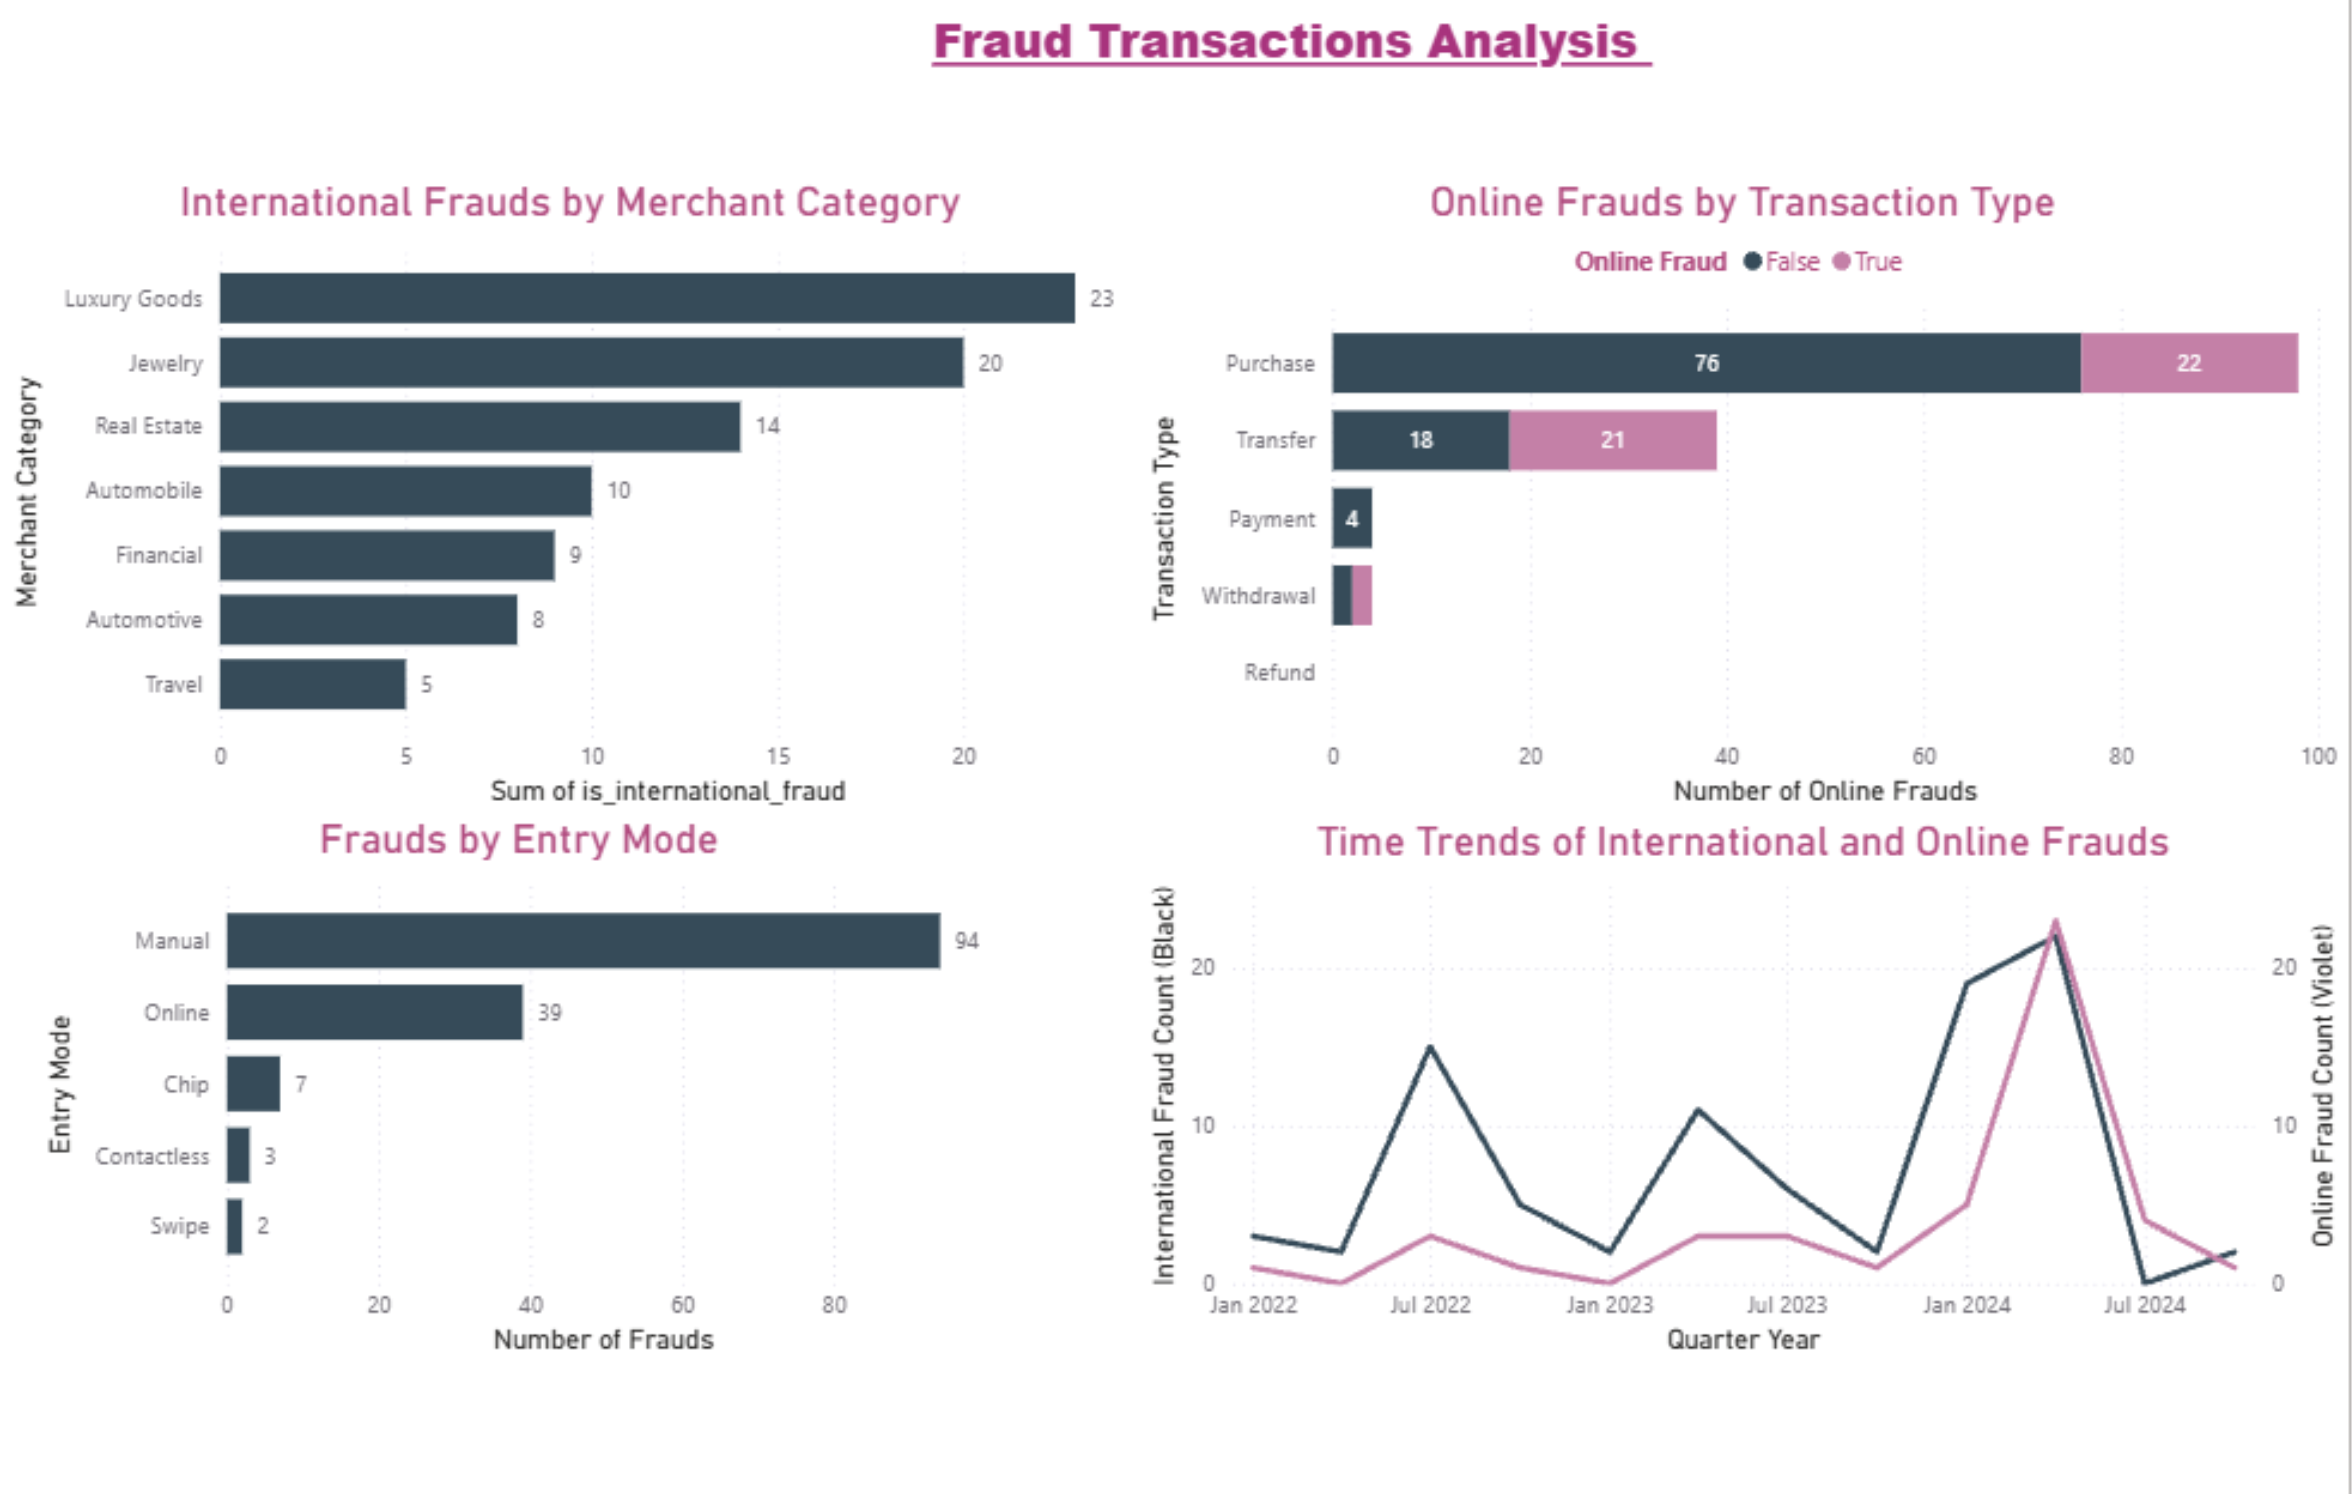

This screenshot's page, from the dashboard's own definition file:
{"tool":"powerbi","page":{"name":"Fraud_Analysis","canvas":[1280,720],"ordinal":1},"visuals":[{"type":"textbox","box":[444.2,0,553.8,57.7],"z":0},{"type":"barChart","title":"International Frauds by Merchant Category","fields":{"Y":["Sum(final_credit_card_data.is_international)"],"Category":["final_credit_card_data.merchant_category"]},"box":[40,93.8,529.2,326.2],"z":1000},{"type":"actionButton","box":[0,0,100,40],"z":2000},{"type":"barChart","title":"Online Frauds by Transaction Type","fields":{"Category":["final_credit_card_data.transaction_type"],"Y":["Sum(final_credit_card_data.is_fraud)"],"Series":["final_credit_card_data.is_online_fraud_bool"]},"box":[614.3,93.7,665.1,336.5],"z":3000},{"type":"barChart","title":"Frauds by Entry Mode","fields":{"Category":["final_credit_card_data.entry_mode"],"Y":["Sum(final_credit_card_data.is_fraud)"]},"box":[57.1,430.2,511.1,290.5],"z":4000},{"type":"lineChart","title":"Time Trends of International and Online Frauds","fields":{"Y":["Sum(final_credit_card_data.is_international_fraud)"],"Y2":["Sum(final_credit_card_data.is_online_fraud)"],"Category":["final_credit_card_data.transaction_datetime.Variation.Date Hierarchy.Year","final_credit_card_data.transaction_datetime.Variation.Date Hierarchy.Quarter"]},"box":[614.3,430.2,663.5,290.5],"z":5000}]}

Visuals, with their boxes on the page's 1280x720 design canvas (x1, y1, x2, y2). These are canvas units, not pixel positions in the 2352x1494 screenshot, which may show the page scaled, cropped or inside an application window:
textbox: (left=444, top=0, right=998, bottom=58)
"International Frauds by Merchant Category" barChart: (left=40, top=94, right=569, bottom=420)
actionButton: (left=0, top=0, right=100, bottom=40)
"Online Frauds by Transaction Type" barChart: (left=614, top=94, right=1279, bottom=430)
"Frauds by Entry Mode" barChart: (left=57, top=430, right=568, bottom=721)
"Time Trends of International and Online Frauds" lineChart: (left=614, top=430, right=1278, bottom=721)
